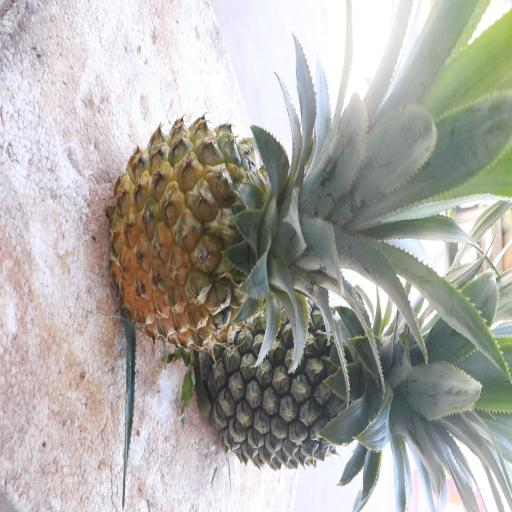Pineapple - v8 v1: (110, 110, 417, 355)
